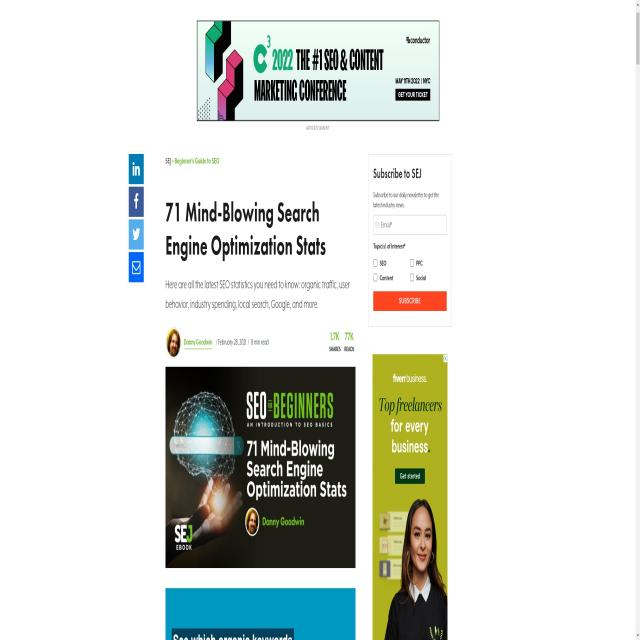side-panel: (122, 141, 149, 301)
